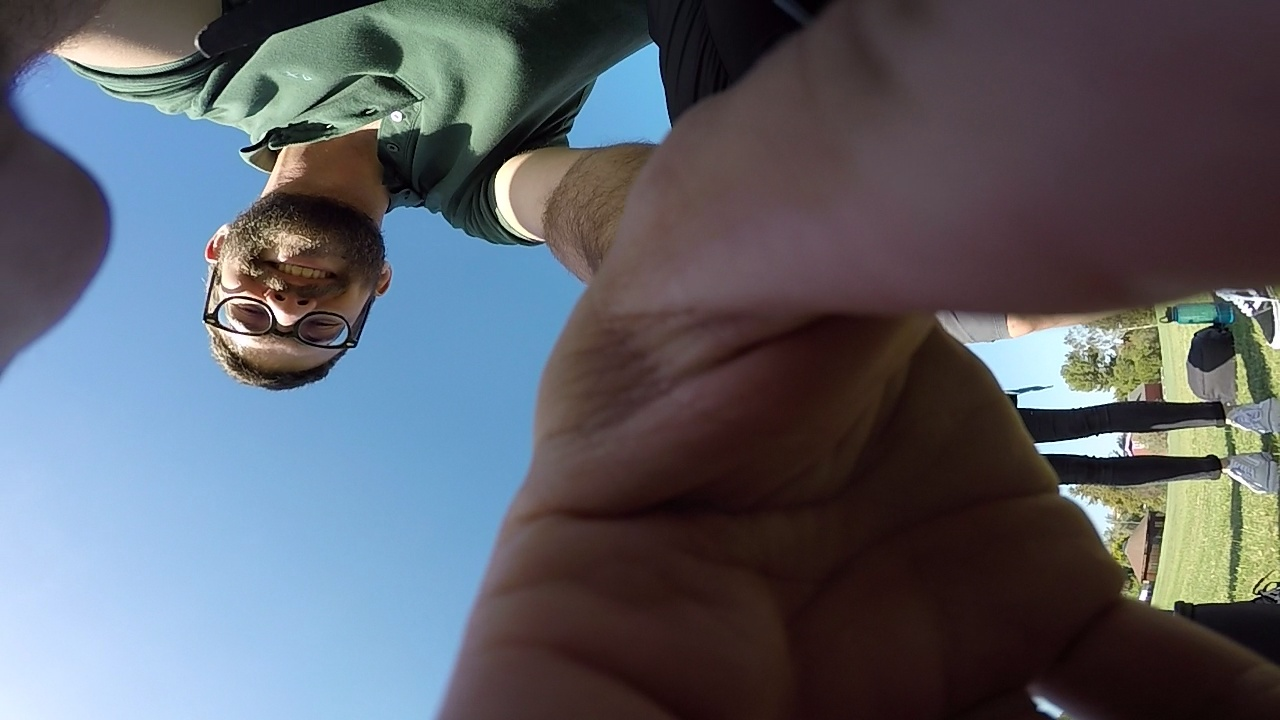person: (280, 26, 1280, 718), (119, 36, 953, 672), (56, 14, 834, 497), (541, 232, 1272, 714)
